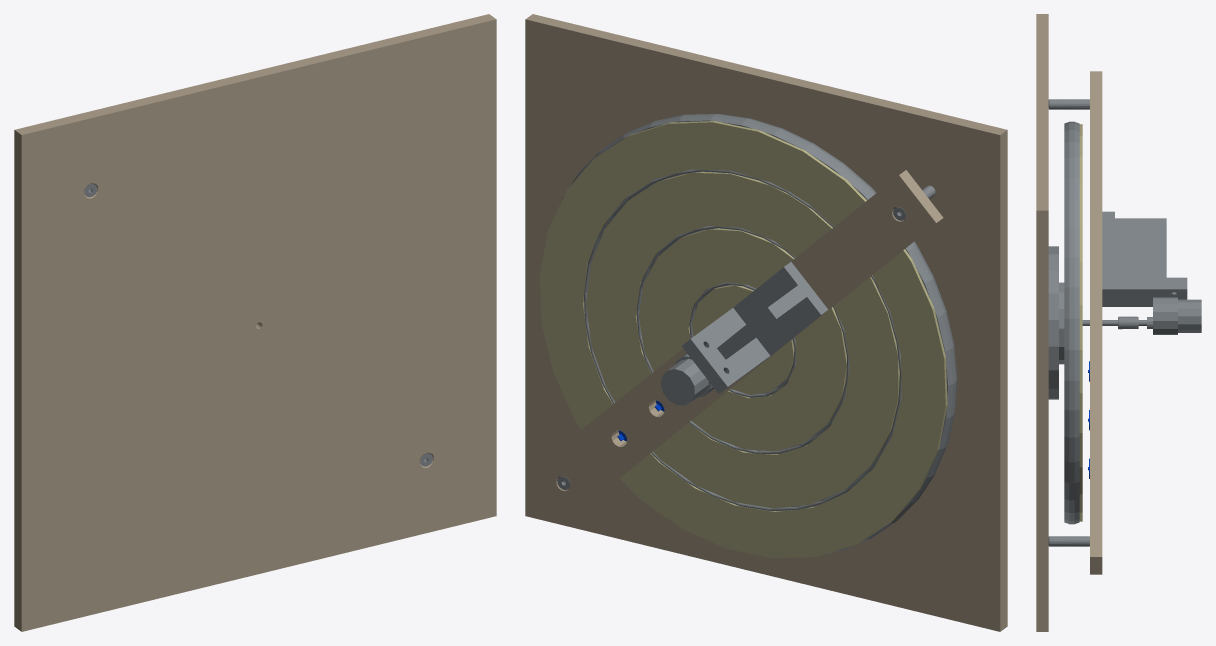
File: OBI_orbitar.obj
3 views of the same model, side by side, from view 1: azimuth 30°, elevation 25°; view 2: azimuth 150°, elevation 25°; view 3: azimuth 270°, elevation 25° (orthographic). The views are drawn at different scales.
Parts seen in each view (by area): view 1: OBI_orbitar; view 2: OBI_orbitar; view 3: OBI_orbitar.
Part boxes in pixels (x1,y1,x2,y2): OBI_orbitar: (14, 14, 496, 631); OBI_orbitar: (525, 14, 1007, 631); OBI_orbitar: (1036, 14, 1201, 631).
Bounding box in the file's own units: 450 × 450 × 160.
